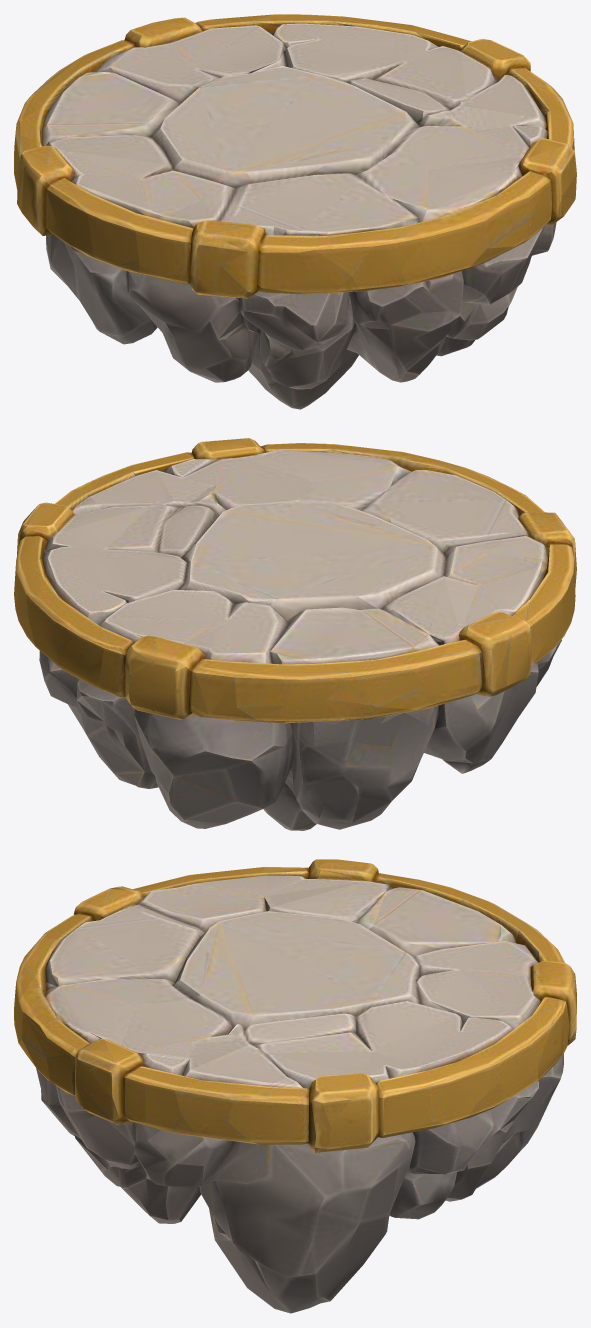
File: isle-start.glb
The picture shows the model from 3 angles, top to bottom: view 1: azimuth 30°, elevation 25°; view 2: azimuth 150°, elevation 25°; view 3: azimuth 270°, elevation 25°; orthographic projection.
Bounding box in the file's own units: 1.9 × 1.04 × 1.89.
1 material, 1 textured.
